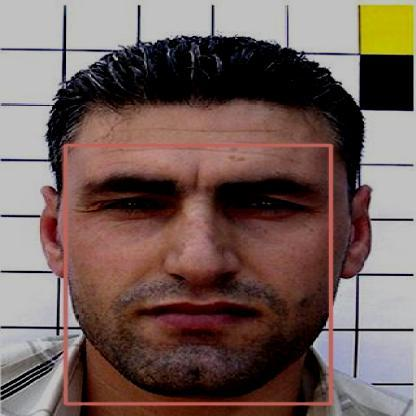without_mask: (65, 145, 330, 403)
